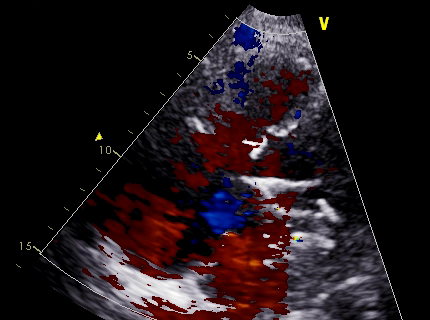TR: (191, 158, 252, 237)
